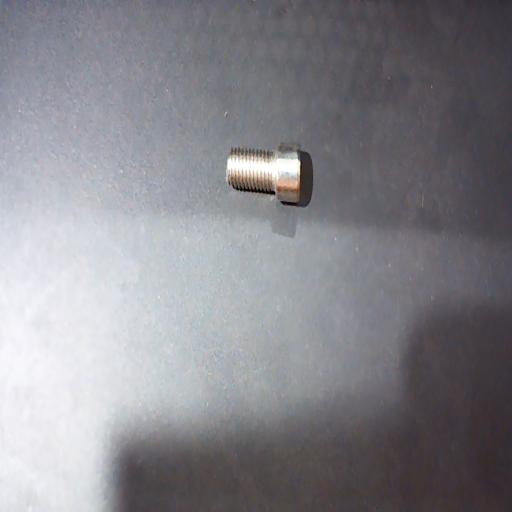screw: (226, 142, 314, 208)
